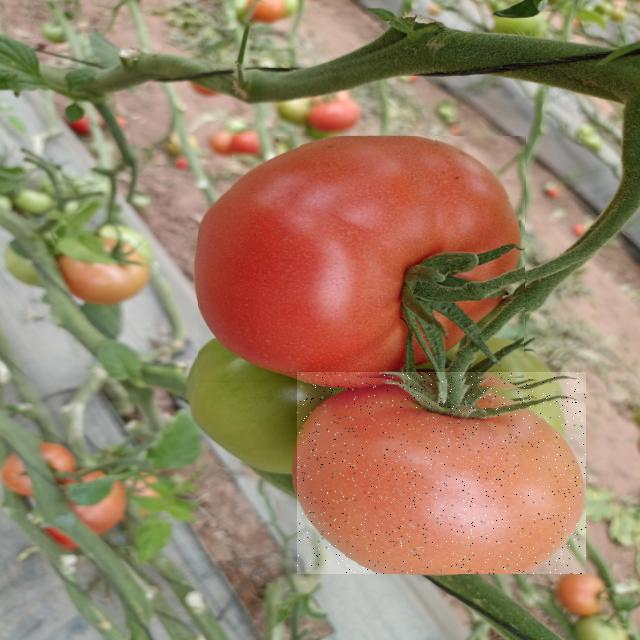Ripe Tomato: (198, 136, 526, 383), (297, 372, 586, 574)
